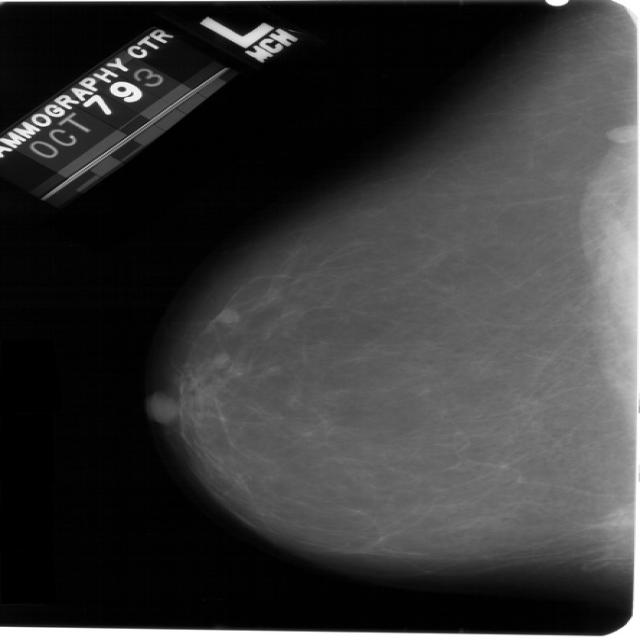tumour: (210, 306, 240, 323)
